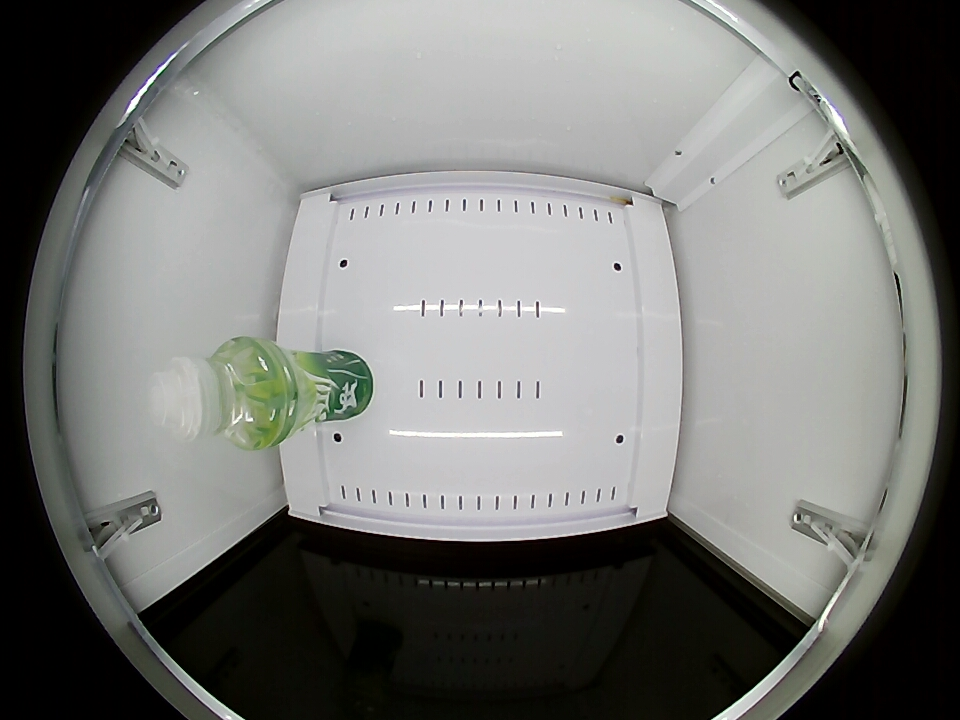jianjiao: (157, 337, 284, 450)
